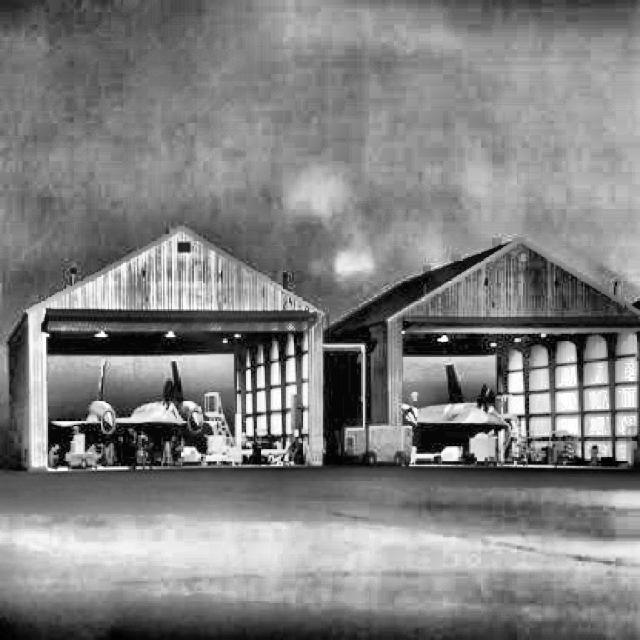SR71: (51, 358, 204, 470), (402, 363, 510, 460)
